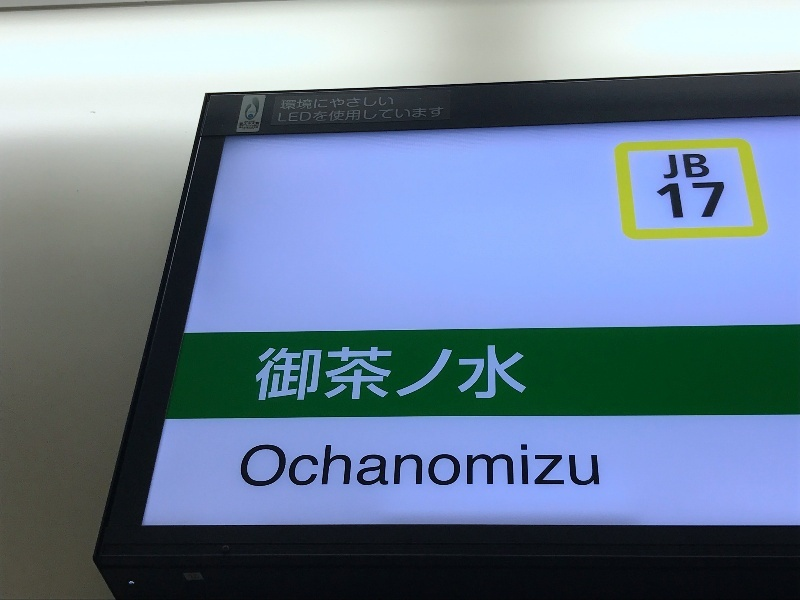text: (273, 346, 288, 401), (289, 346, 304, 401), (305, 346, 320, 401), (321, 346, 336, 401), (337, 346, 352, 401), (353, 346, 368, 401), (369, 346, 384, 401), (385, 346, 400, 401), (401, 346, 416, 401), (417, 346, 432, 401), (433, 346, 448, 401), (449, 346, 464, 401), (465, 346, 480, 401), (481, 346, 496, 401), (497, 346, 512, 401), (513, 346, 528, 401), (260, 346, 272, 401), (257, 444, 272, 488), (273, 444, 288, 488), (289, 444, 304, 488), (305, 444, 320, 488), (321, 444, 336, 488), (337, 444, 352, 488), (353, 444, 368, 488), (369, 444, 384, 488), (385, 444, 400, 488), (401, 444, 416, 488), (417, 444, 432, 488), (433, 444, 448, 488), (449, 444, 464, 488), (465, 444, 480, 488), (481, 444, 496, 488), (497, 444, 512, 488), (513, 444, 528, 488), (529, 444, 544, 488), (545, 444, 560, 488), (561, 444, 576, 488), (577, 444, 592, 488), (673, 183, 688, 219), (689, 183, 704, 219), (705, 183, 720, 219), (244, 444, 256, 488), (658, 183, 672, 219), (673, 155, 688, 180), (689, 155, 704, 180), (593, 444, 600, 488), (721, 183, 729, 219), (289, 107, 304, 123), (305, 107, 320, 123), (321, 107, 336, 123), (337, 107, 352, 123), (353, 107, 368, 123), (369, 107, 384, 123), (385, 107, 400, 123), (401, 107, 416, 123), (417, 107, 432, 123), (289, 97, 304, 111), (305, 97, 320, 111), (321, 97, 336, 111), (337, 97, 352, 111), (353, 97, 368, 111), (369, 97, 384, 111), (664, 155, 672, 180), (433, 107, 444, 123), (705, 155, 711, 180), (279, 107, 288, 123), (241, 122, 256, 130), (385, 97, 393, 111), (282, 97, 288, 111), (257, 122, 260, 130), (245, 121, 256, 122)
